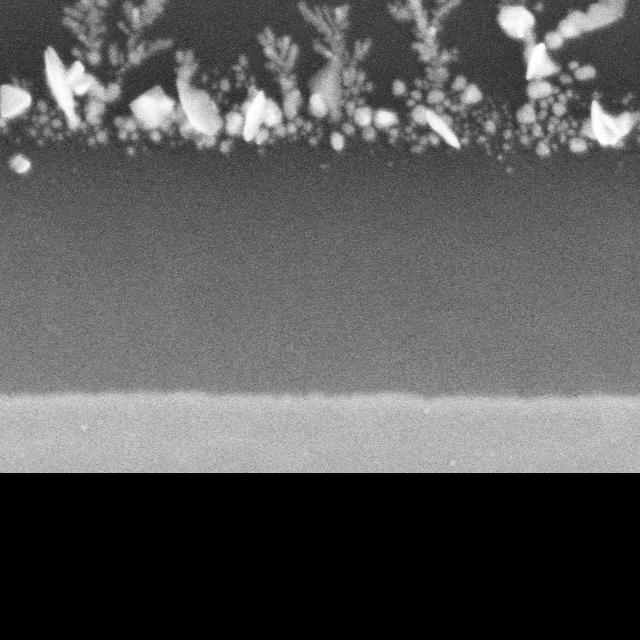Dendrite: (372, 0, 524, 156), (493, 0, 595, 156), (299, 2, 371, 117), (45, 47, 120, 143), (109, 0, 173, 80), (258, 28, 306, 133), (175, 49, 222, 148), (257, 27, 302, 119), (115, 85, 179, 142), (299, 2, 353, 66), (241, 88, 285, 143), (591, 97, 640, 146), (219, 53, 259, 108), (27, 93, 69, 144), (310, 59, 342, 116), (0, 76, 32, 123), (0, 83, 31, 120), (296, 118, 328, 145), (8, 152, 31, 175), (373, 108, 398, 129), (353, 107, 369, 126), (360, 126, 375, 142), (331, 132, 344, 150), (341, 125, 356, 140)
